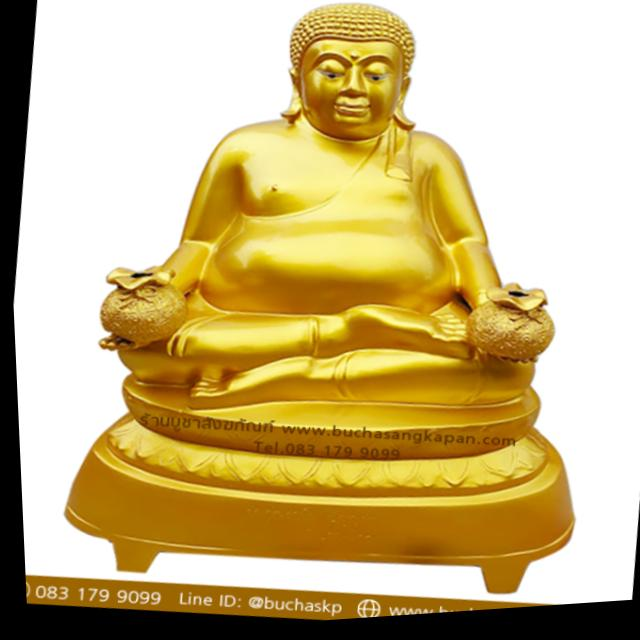Smiling Buddha: (92, 0, 570, 441)
